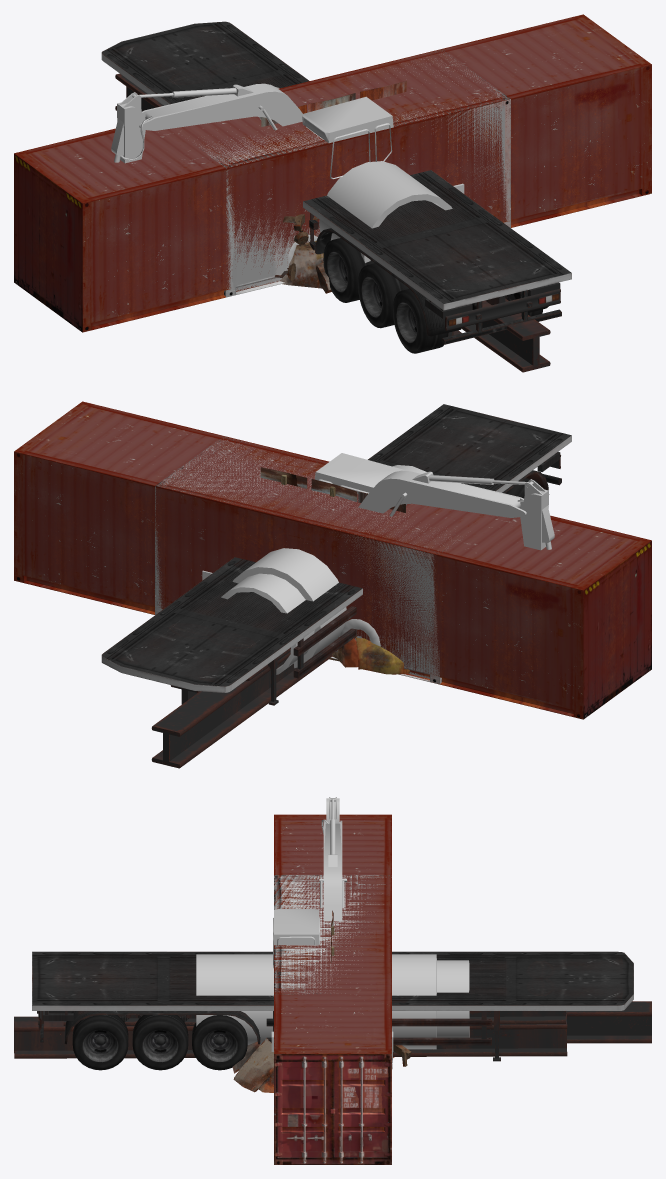
File: Construction_objects_1.fbx
3 views of the same model, one above another, from view 1: azimuth 30°, elevation 25°; view 2: azimuth 150°, elevation 25°; view 3: azimuth 270°, elevation 25° (orthographic). The views are drawn at different scales.
Parts seen in each view (by area): view 1: ShipingCont, TrailerTruck, Excavator, ShipingCont_1, ConcretePipe, MetalBeams, ScrapPile, FenceRust; view 2: ShipingCont, TrailerTruck, Excavator, ShipingCont_1, MetalBeams, ConcretePipe, ScrapPile, FenceRust; view 3: ShipingCont, TrailerTruck, MetalBeams, ConcretePipe, ShipingCont_1, Excavator, ScrapPile.
Part boxes in pixels (bbox=[...]): ShipingCont: bbox=[14, 14, 651, 332]; TrailerTruck: bbox=[101, 21, 571, 353]; Excavator: bbox=[111, 83, 464, 263]; ShipingCont_1: bbox=[196, 49, 510, 297]; ConcretePipe: bbox=[276, 87, 452, 262]; MetalBeams: bbox=[115, 73, 550, 372]; ScrapPile: bbox=[274, 214, 331, 293]; FenceRust: bbox=[261, 81, 406, 126]; ShipingCont: bbox=[14, 401, 651, 719]; TrailerTruck: bbox=[101, 404, 571, 705]; Excavator: bbox=[202, 453, 554, 646]; ShipingCont_1: bbox=[155, 436, 454, 684]; MetalBeams: bbox=[151, 647, 332, 768]; ConcretePipe: bbox=[221, 465, 426, 674]; ScrapPile: bbox=[329, 637, 409, 674]; FenceRust: bbox=[260, 467, 405, 512]; ShipingCont: bbox=[274, 814, 391, 1164]; TrailerTruck: bbox=[32, 951, 633, 1070]; MetalBeams: bbox=[14, 1001, 651, 1058]; ConcretePipe: bbox=[196, 954, 469, 1049]; ShipingCont_1: bbox=[274, 875, 391, 994]; Excavator: bbox=[271, 797, 393, 1069]; ScrapPile: bbox=[232, 1038, 433, 1092].
Size of the model in its own units: 1205 by 391 by 1353.
